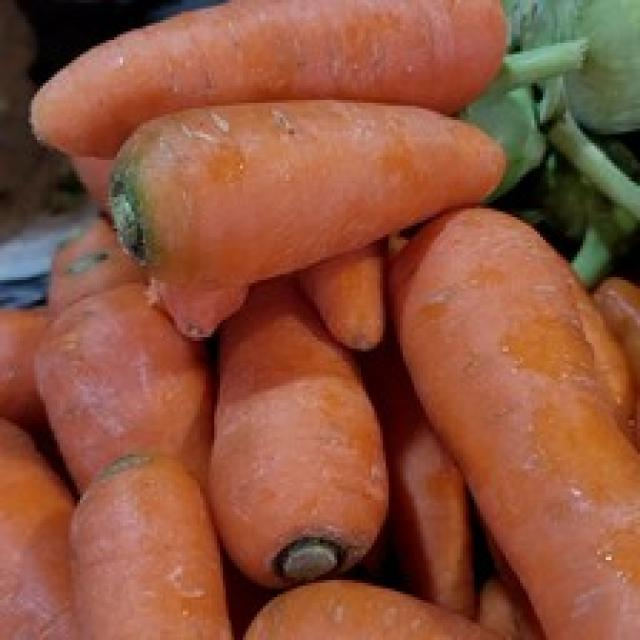Fresh_Carrot: (91, 478, 228, 640), (48, 292, 171, 437)
